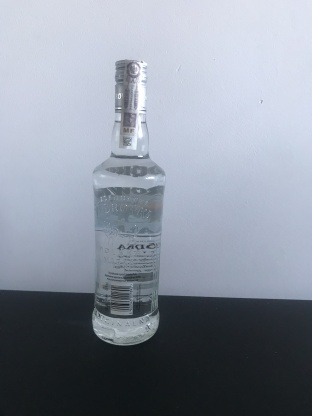nakretka: (112, 56, 149, 116)
